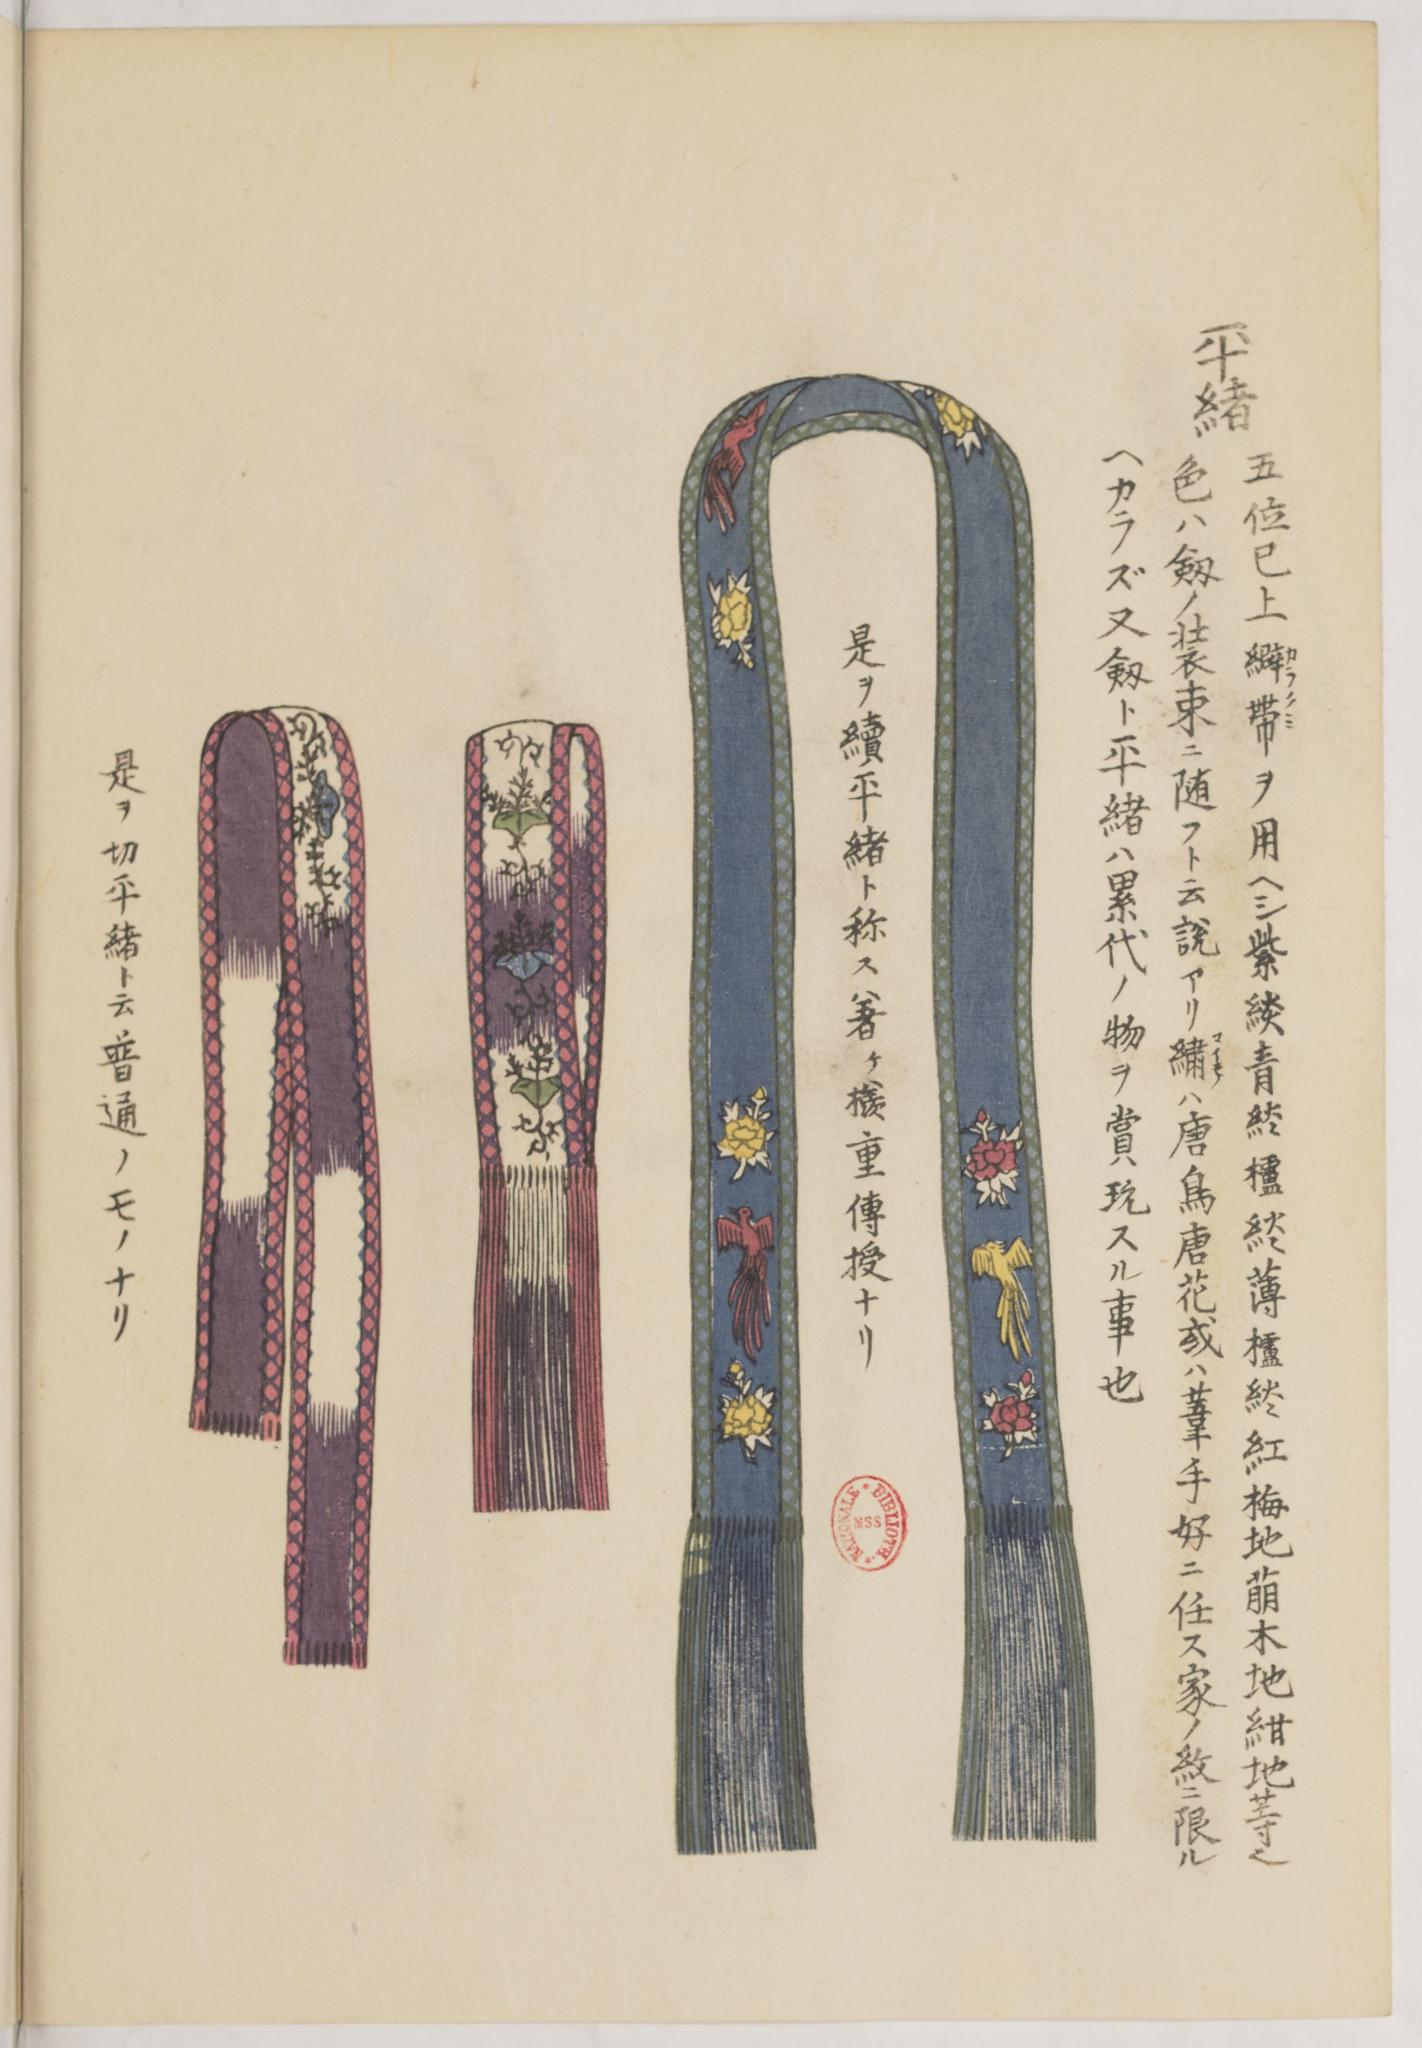MainZone-Character: (1165, 1026, 1231, 1091), (1242, 689, 1302, 752), (1245, 635, 1304, 686)
MainZone-Ruby: (1207, 1027, 1231, 1086), (1284, 640, 1304, 686), (1282, 688, 1302, 733)
